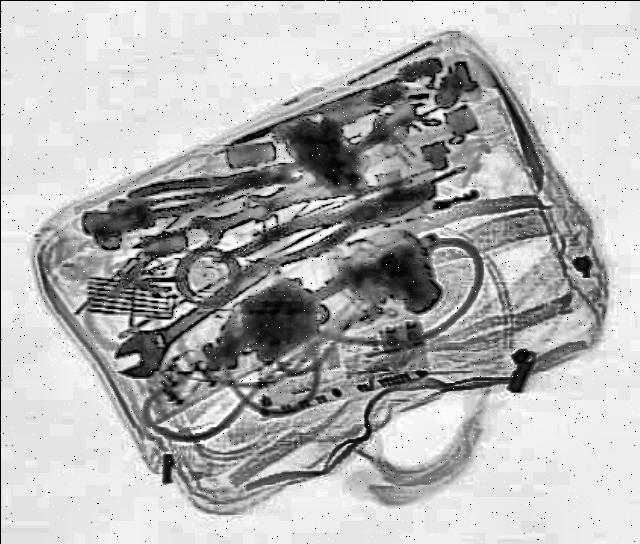Pliers: (205, 161, 445, 285), (122, 148, 304, 225)
Wrench: (96, 244, 286, 386), (176, 168, 324, 250)
